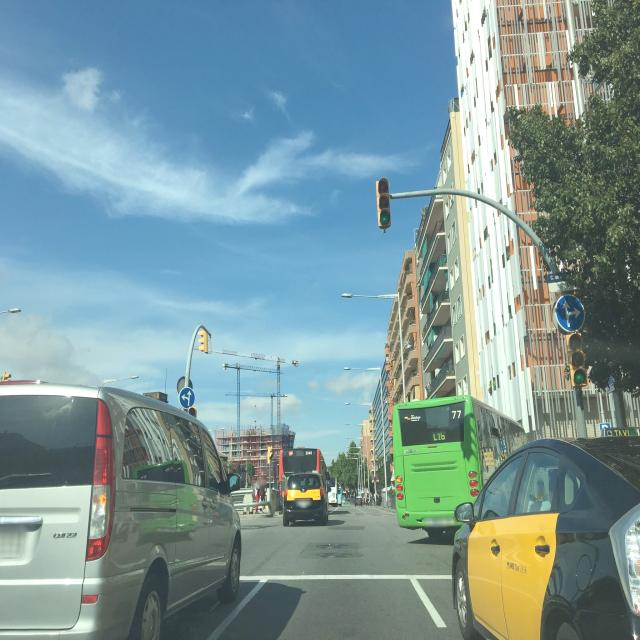car: (0, 380, 242, 639), (451, 434, 640, 640), (282, 471, 328, 527)
